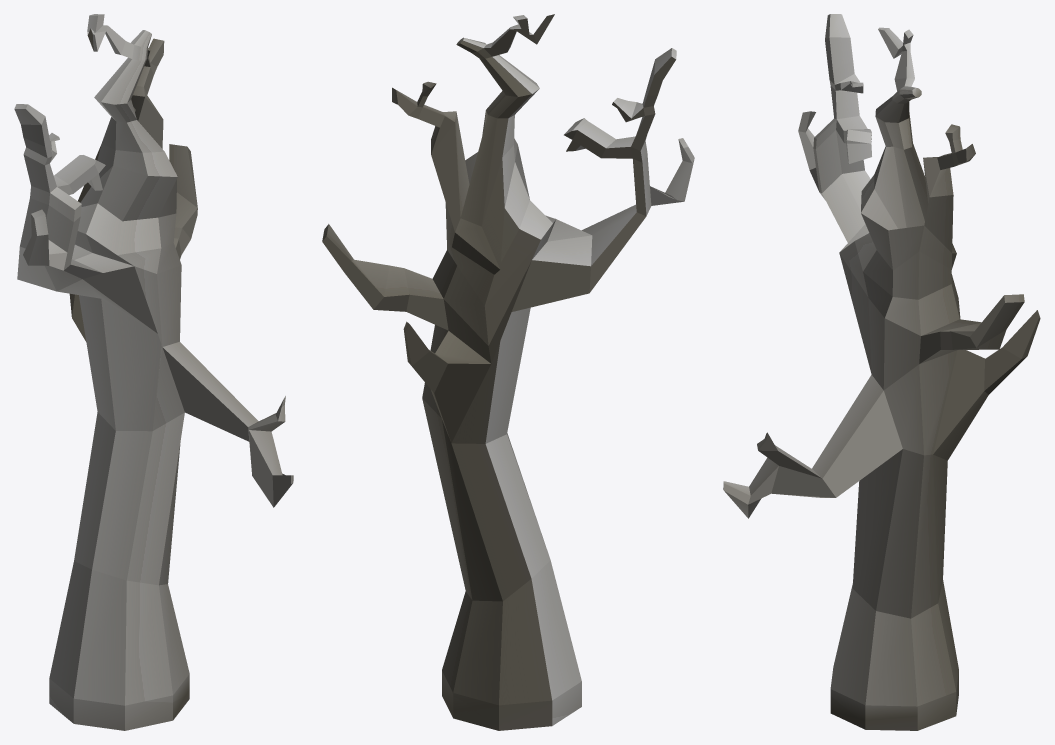
File: spookyTree1.fbx
3 views of the same model, side by side, from view 1: azimuth 30°, elevation 25°; view 2: azimuth 150°, elevation 25°; view 3: azimuth 270°, elevation 25° (orthographic). The views are drawn at different scales.
Visible parts, largest first — view 1: spooky tree.001; view 2: spooky tree.001; view 3: spooky tree.001.
Boxes of the visible parts, x1,y1,x2,y2 form: spooky tree.001: (14, 14, 293, 730); spooky tree.001: (322, 14, 694, 730); spooky tree.001: (723, 14, 1040, 730).
Bounding box in the file's own units: 1205 × 3013 × 1305.
